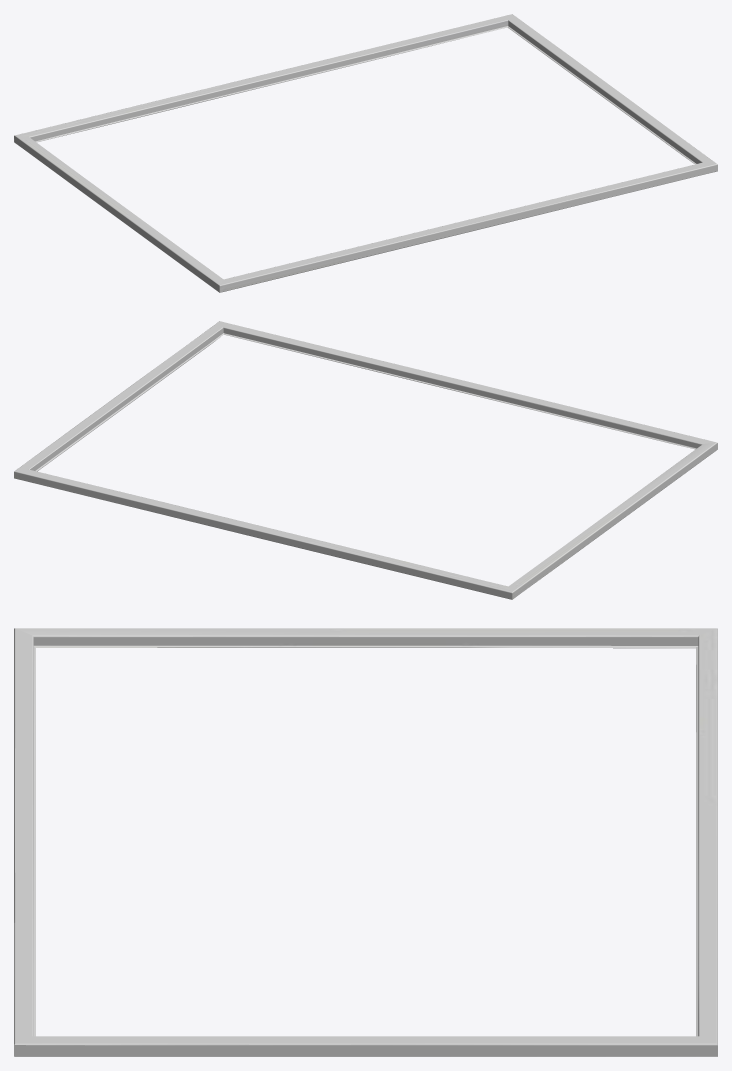
Rendered from yt2u8oc93ddo.glb.
3 views of the same model, one above another, from view 1: azimuth 30°, elevation 25°; view 2: azimuth 150°, elevation 25°; view 3: azimuth 270°, elevation 25° (orthographic). The views are drawn at different scales.
Visible parts, largest first — view 1: 50326765-BJÃƒâ€“RKSTA001; view 2: 50326765-BJÃƒâ€“RKSTA001; view 3: 50326765-BJÃƒâ€“RKSTA001.
Boxes of the visible parts, x1=… form: 50326765-BJÃƒâ€“RKSTA001: x1=14, y1=14, x2=717, y2=292; 50326765-BJÃƒâ€“RKSTA001: x1=14, y1=321, x2=717, y2=599; 50326765-BJÃƒâ€“RKSTA001: x1=14, y1=628, x2=717, y2=1056.
Size of the model in its own units: 1.4 by 0.0205 by 1.
Materials: 1 (1 with a texture image).
